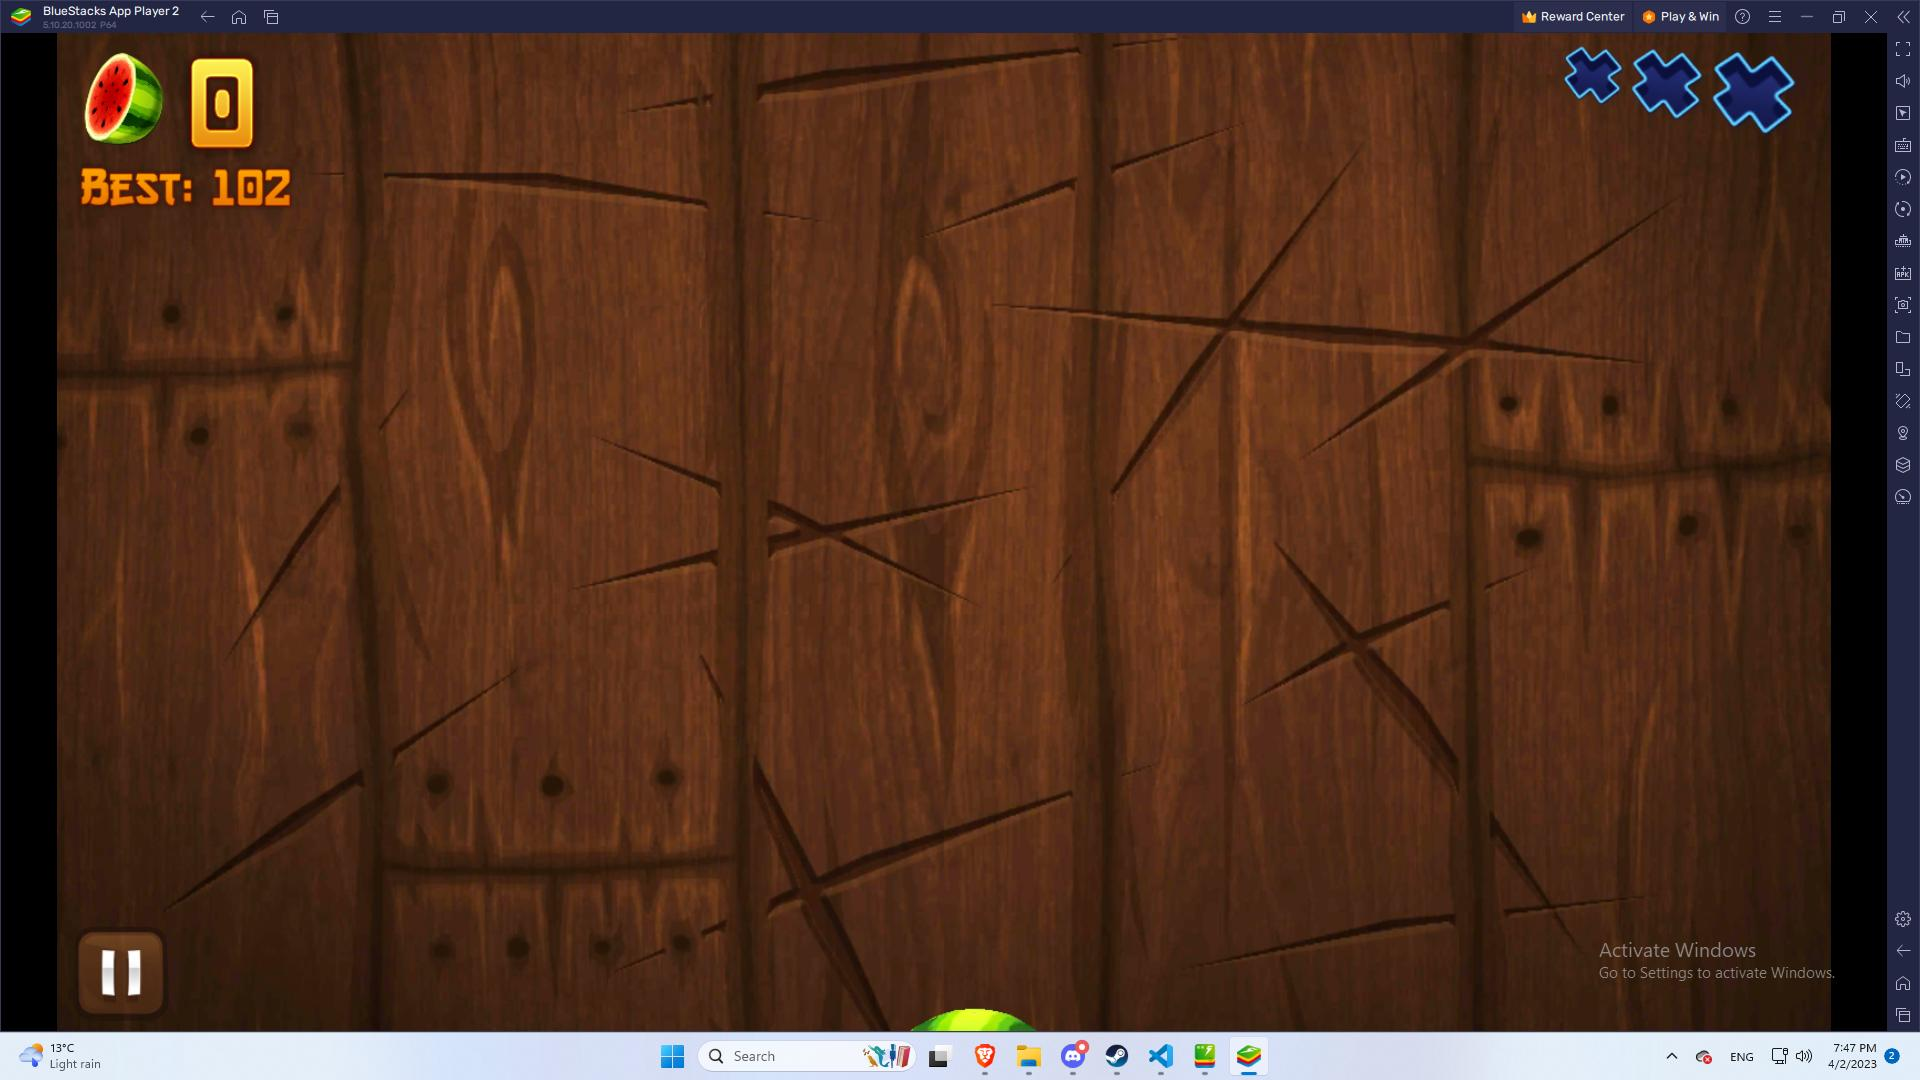fruit: (911, 997, 1035, 1033)
